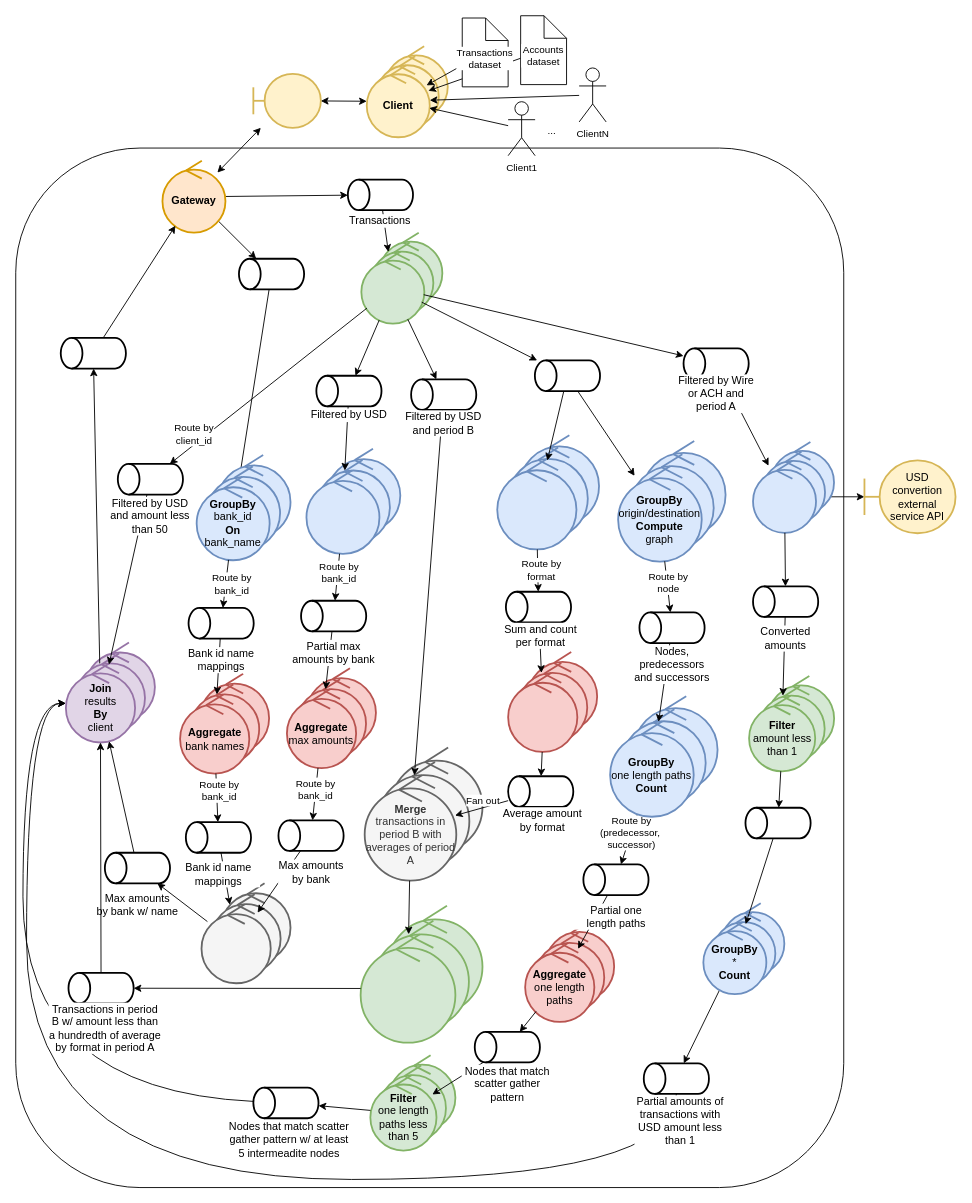
This 972x1203 diagram has some shape labels left out. The shapes that lost their labels are listed below. From the top down, each one's box as (x1, y1, x2, y2) in pixels, then its label:
(252, 72, 321, 128): Socket TCP/IP
(238, 257, 305, 290): Accounts
(360, 250, 425, 324): Filter
(59, 337, 126, 369): Responses
(534, 359, 600, 392): Filtered by USD and period A
(305, 469, 380, 554): GroupBy bank Max amount
(496, 458, 577, 550): GroupBy format Sum amount Count
(752, 459, 816, 533): Convert amount into USD
(507, 671, 578, 752): Aggregate amount average
(744, 806, 811, 839): Filtered by amount less than 1
(200, 903, 271, 984): Merge On bank_id
(359, 933, 456, 1043): Filter transactions By average laess than a hudredth of format average
